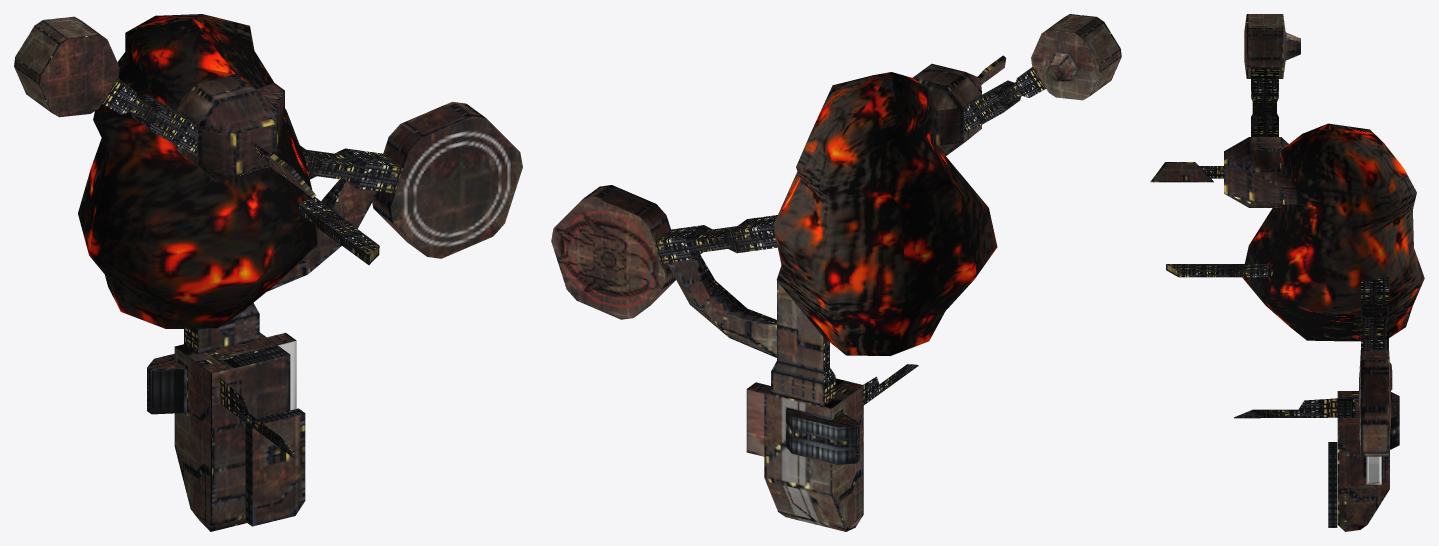
Rendered from ss304_static.obj.
3 views of the same model, side by side, from view 1: azimuth 30°, elevation 25°; view 2: azimuth 150°, elevation 25°; view 3: azimuth 270°, elevation 25° (orthographic). The views are drawn at different scales.
Visible parts, largest first — view 1: frm-rock, frm-cyl2, frm-cube18, frm-cube22, frm-cyl2_1, frm-cube21, frm-cube4, frm-cube4_1, frm-cube20, frm-cube13, frm-cube3, frm-cube19 (+3 smaller); view 2: frm-rock, frm-cyl2, frm-cube18, frm-cyl2_1, frm-cube19, frm-cube20, frm-cube4, frm-cube22, frm-cube13, frm-cube4_1, frm-east_bay_11_9, frm-extru44; view 3: frm-rock, frm-cube18, frm-cube22, frm-cyl2, frm-cyl2_1, frm-cube4, frm-cube4_1, frm-cube3, frm-extru44, frm-cube8, frm-cube21, frm-cube13 (+1 smaller).
Boxes of the visible parts, x1=… form: frm-rock: x1=78, y1=14, x2=317, y2=328; frm-cyl2: x1=372, y1=101, x2=522, y2=258; frm-cube18: x1=174, y1=332, x2=290, y2=531; frm-cube22: x1=176, y1=74, x2=284, y2=181; frm-cyl2_1: x1=14, y1=16, x2=119, y2=117; frm-cube21: x1=245, y1=408, x2=305, y2=526; frm-cube4: x1=300, y1=145, x2=402, y2=193; frm-cube4_1: x1=102, y1=78, x2=197, y2=156; frm-cube20: x1=267, y1=179, x2=377, y2=291; frm-cube13: x1=147, y1=353, x2=186, y2=414; frm-cube3: x1=298, y1=197, x2=379, y2=264; frm-cube19: x1=184, y1=303, x2=259, y2=354; frm-rock: x1=773, y1=72, x2=997, y2=355; frm-cyl2: x1=551, y1=185, x2=675, y2=319; frm-cube18: x1=764, y1=378, x2=863, y2=531; frm-cyl2_1: x1=1031, y1=14, x2=1121, y2=100; frm-cube19: x1=771, y1=281, x2=835, y2=406; frm-cube20: x1=667, y1=255, x2=776, y2=357; frm-cube4: x1=654, y1=215, x2=777, y2=263; frm-cube22: x1=912, y1=64, x2=981, y2=155; frm-cube13: x1=786, y1=409, x2=859, y2=464; frm-cube4_1: x1=964, y1=67, x2=1045, y2=134; frm-east_bay_11_9: x1=746, y1=382, x2=770, y2=456; frm-extru44: x1=863, y1=364, x2=918, y2=405; frm-rock: x1=1242, y1=123, x2=1424, y2=341; frm-cube18: x1=1337, y1=391, x2=1389, y2=531; frm-cube22: x1=1224, y1=137, x2=1297, y2=207; frm-cyl2: x1=1359, y1=349, x2=1390, y2=456; frm-cyl2_1: x1=1244, y1=14, x2=1300, y2=78; frm-cube4: x1=1361, y1=277, x2=1388, y2=349; frm-cube4_1: x1=1251, y1=68, x2=1278, y2=136; frm-cube3: x1=1166, y1=264, x2=1272, y2=277; frm-extru44: x1=1234, y1=398, x2=1337, y2=418; frm-cube8: x1=1150, y1=162, x2=1213, y2=182; frm-cube21: x1=1328, y1=442, x2=1337, y2=527; frm-cube13: x1=1390, y1=392, x2=1399, y2=449.
Bounding box in the file's own units: 117 × 118 × 69.93.
